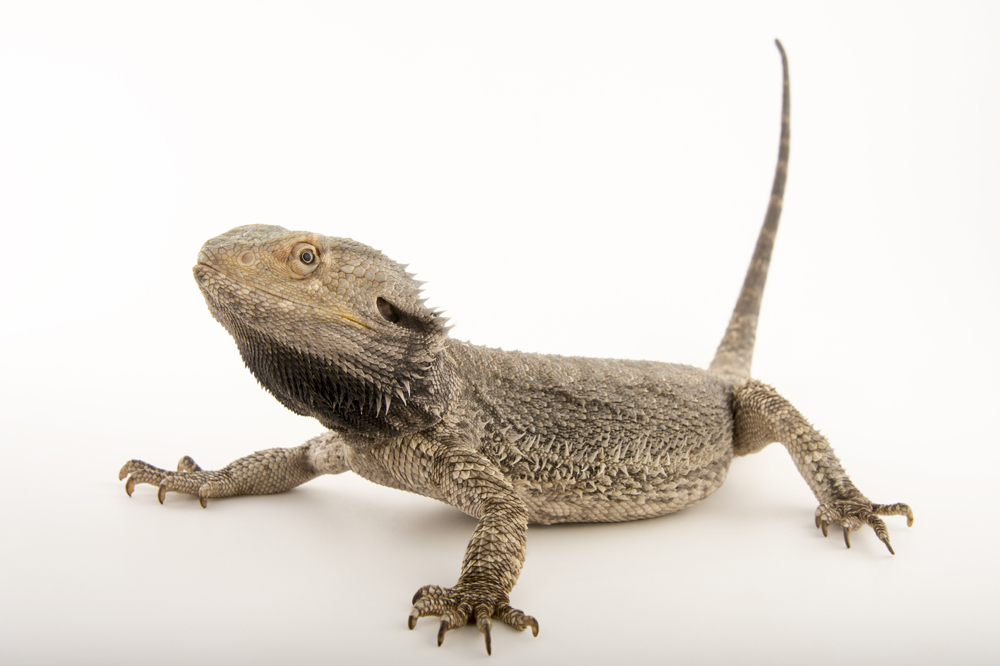bearded: (120, 31, 914, 659)
